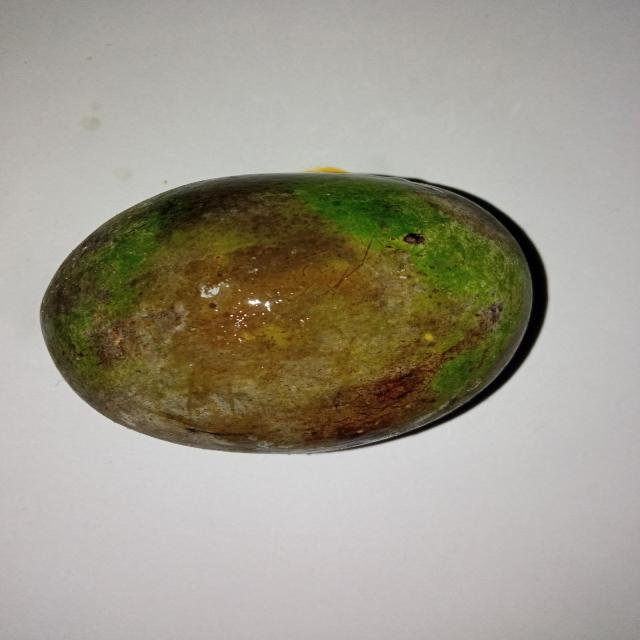rotten_mango: (39, 172, 534, 454)
